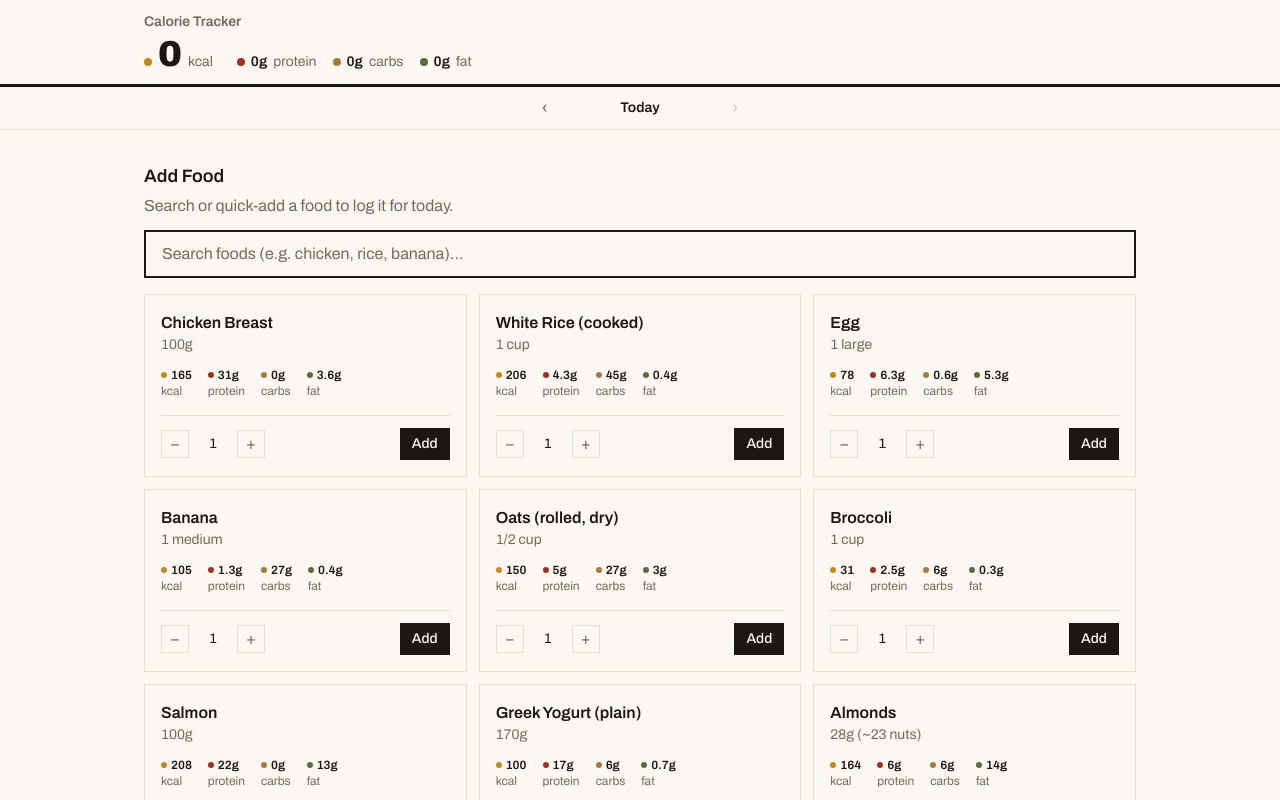
Test case: App (integration: search -> add -> log display -> totals -> delete -> date navigation) › navigating to a previous day shows that day empty, with the next-day button disabled while on today
This screenshot has width=1280, height=800.
# Log something today first.
Type "Egg" into the field labelled "Search foods (e.g. chicken, rice, banana)…" at x=640, y=254, box [144,230,1136,278]
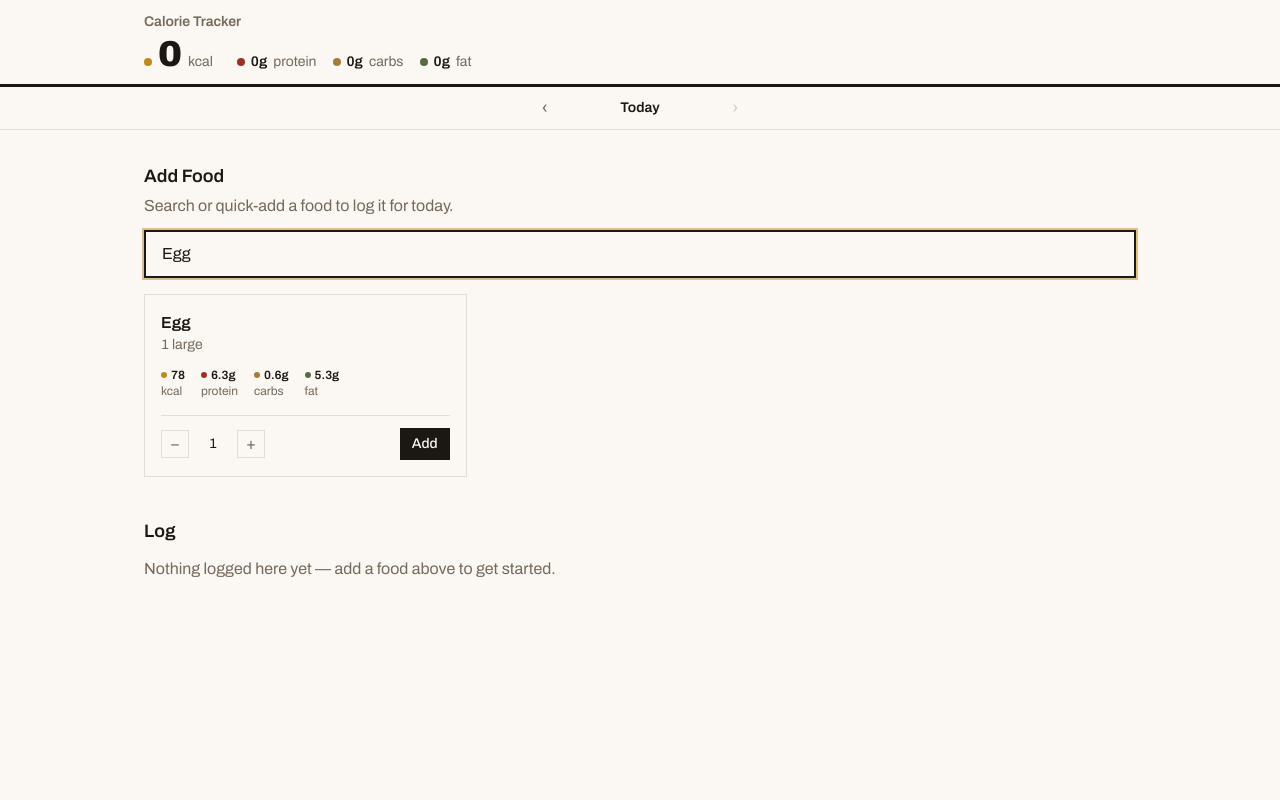
Click the button "Add" at x=425, y=444, box [400,428,450,460]
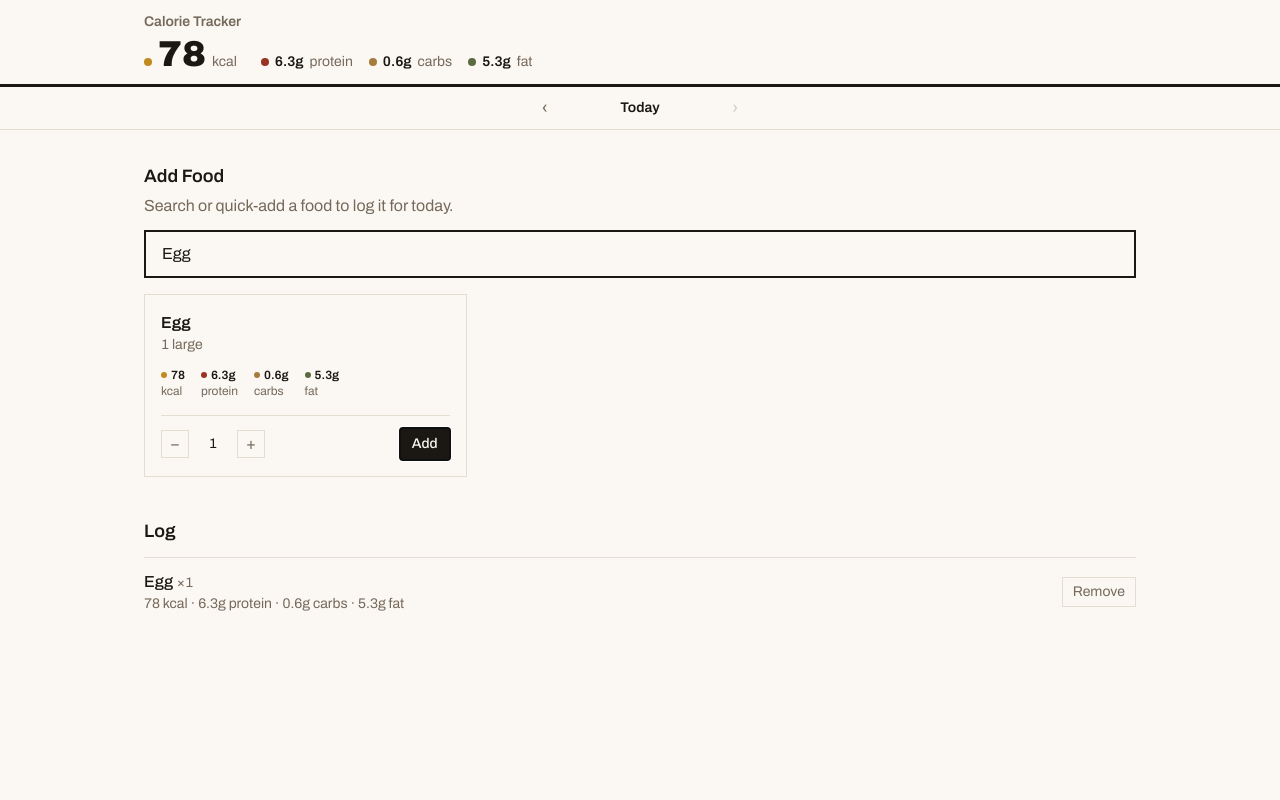
Expected: the button named "next day" is disabled, [724,95,746,121]
Result: the text "78" is shown at [158,36,206,72]
Click the button named "previous day" at x=545, y=108, box [534,95,556,121]
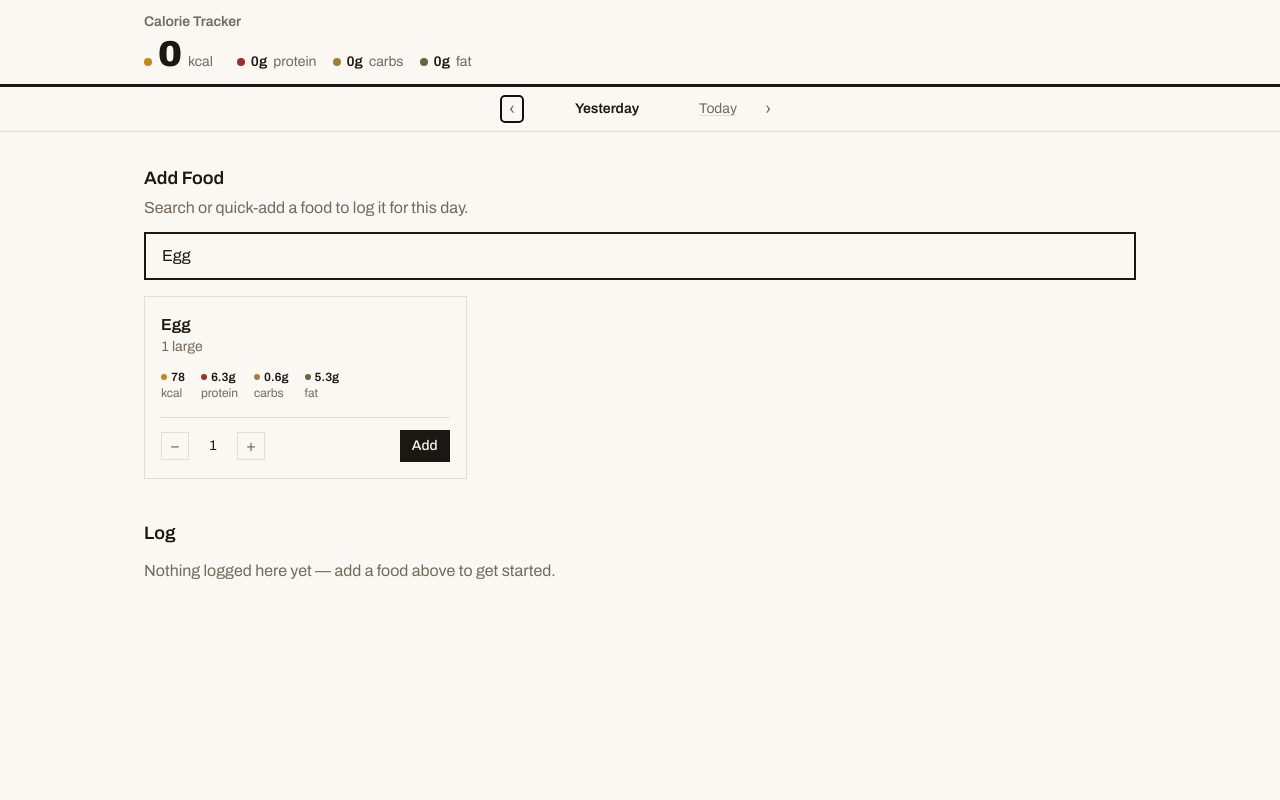
Result: the text "Yesterday" is shown at [575,101,639,116]
Result: the text "0" is shown at [158,36,182,72]
Result: the text "Nothing logged here yet — add a food above to get started." is shown at [144,562,556,579]
